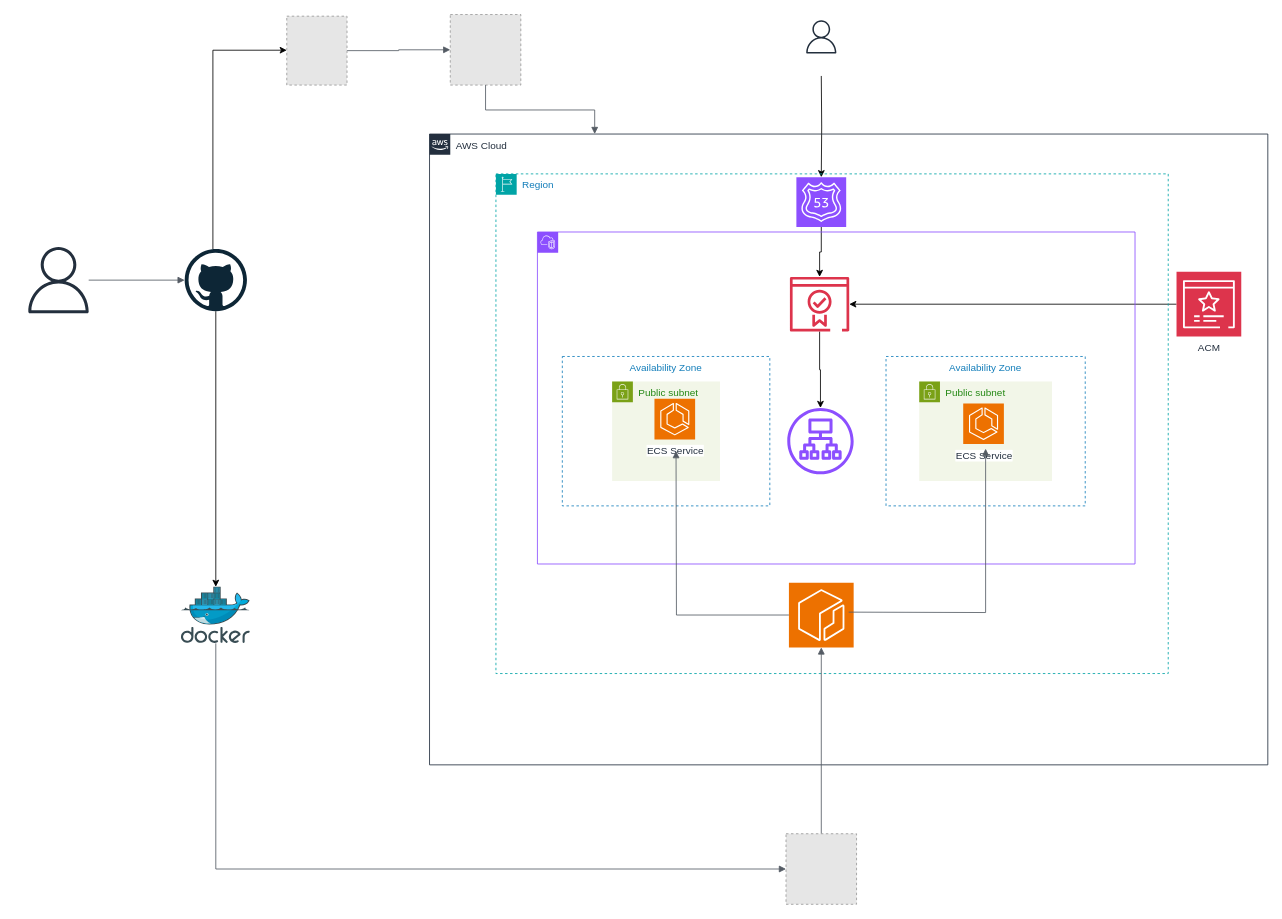
The diagram is 1282 pixels wide and 919 high, and some of its shapes have lost their labels. Grey dashed boxes stand in for pictures. Here are the shapes that lost their labels. From the top down, the centre of each, then its label:
At point (820, 36): "User".
At point (58, 280): "Engineer/Developer".
At point (819, 303): "SSL Cert".
At point (821, 614): "ECR".
